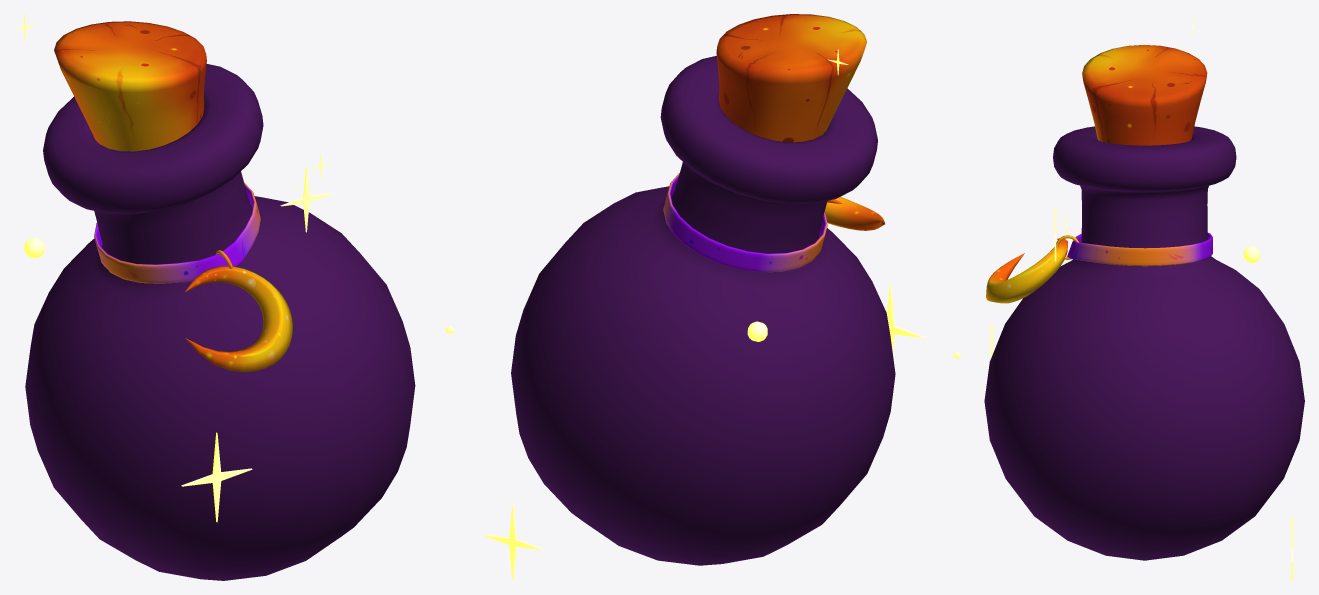
File: potion.glb
3 renders of one model, left to right at view 1: azimuth 30°, elevation 25°; view 2: azimuth 150°, elevation 25°; view 3: azimuth 270°, elevation 25°, orthographic. The views are drawn at different scales.
Visible parts, largest first — view 1: Bottle_LP.002, Cork_LP, Moon_LP.002, Roundcube.009, Plane.001; view 2: Bottle_LP.002, Cork_LP, Roundcube.009, Moon_LP.002, Plane.004; view 3: Bottle_LP.002, Cork_LP, Roundcube.009, Moon_LP.002.
Part boxes in pixels (x1,y1,x2,y2): Bottle_LP.002: [25, 64, 415, 580]; Cork_LP: [54, 21, 206, 151]; Moon_LP.002: [185, 266, 292, 372]; Roundcube.009: [94, 182, 260, 283]; Plane.001: [181, 432, 252, 522]; Bottle_LP.002: [511, 56, 895, 565]; Cork_LP: [716, 14, 866, 142]; Roundcube.009: [663, 173, 827, 272]; Moon_LP.002: [824, 196, 885, 230]; Plane.004: [482, 503, 543, 580]; Bottle_LP.002: [984, 126, 1304, 560]; Cork_LP: [1082, 45, 1207, 145]; Roundcube.009: [1067, 232, 1212, 266]; Moon_LP.002: [986, 238, 1068, 303].
Size of the model in its own units: 0.1498 by 0.2352 by 0.1606.
4 materials, 2 textured.
